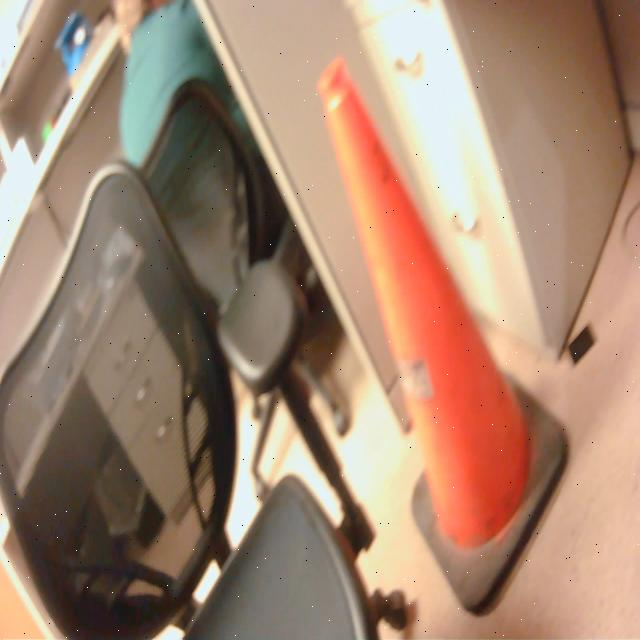traffic cone: (314, 48, 572, 626)
